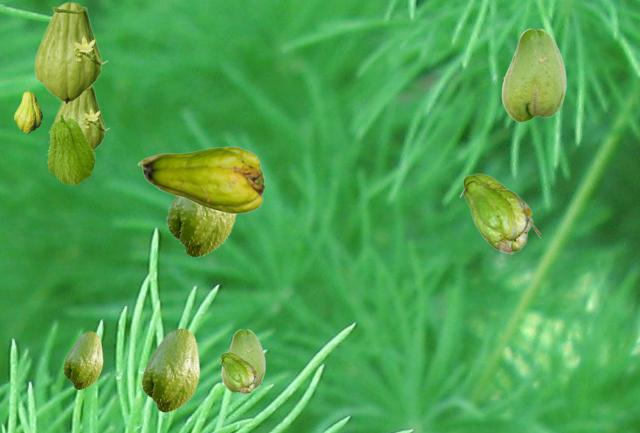sayote: (137, 146, 263, 213), (34, 2, 107, 103), (459, 173, 539, 253), (501, 28, 565, 121), (140, 328, 199, 412), (165, 197, 236, 257), (53, 85, 109, 150), (46, 113, 95, 184), (221, 329, 264, 391), (62, 331, 102, 389), (219, 352, 260, 393), (14, 87, 41, 132)
